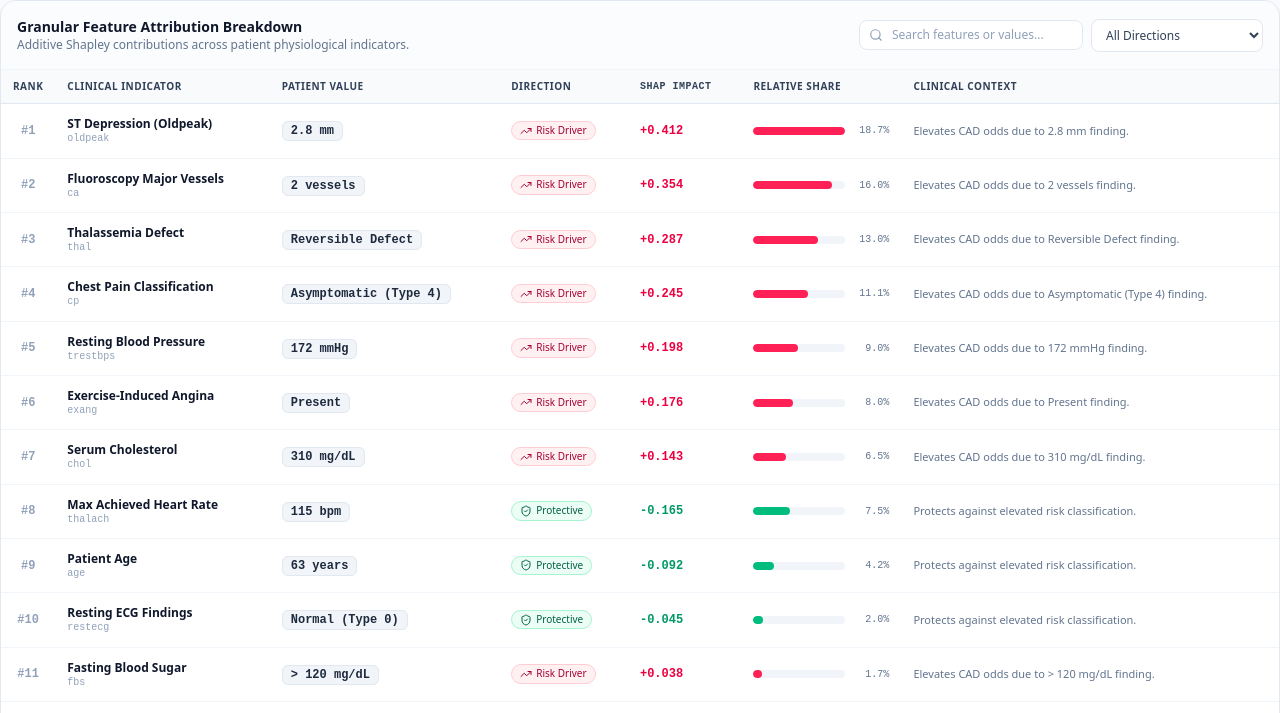
Test case: ShapAttributionTable Component › should filter features by search query
Type "Cholesterol" into the field with placeholder "Search features or values..." at [971, 35], box [859,20,1083,50]
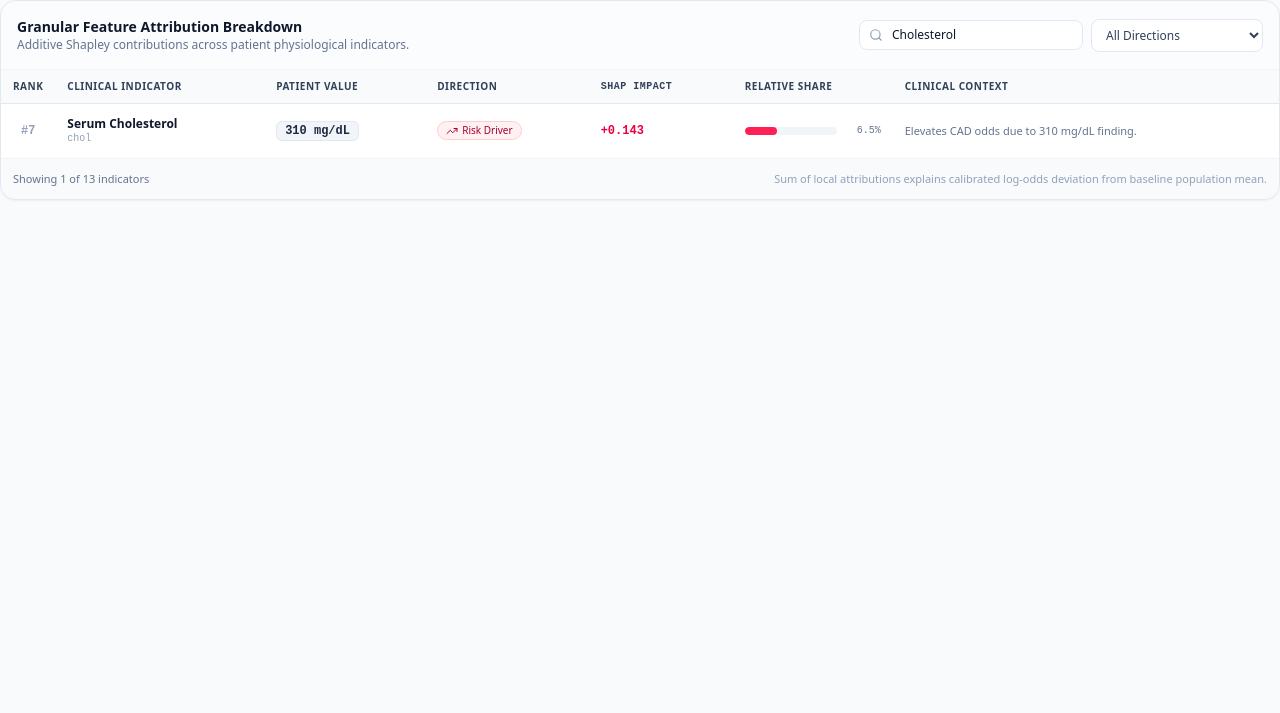
Expected: the text "Serum Cholesterol" is shown, [67,115,178,132]
Result: the text "ST Depression (Oldpeak)" is gone
